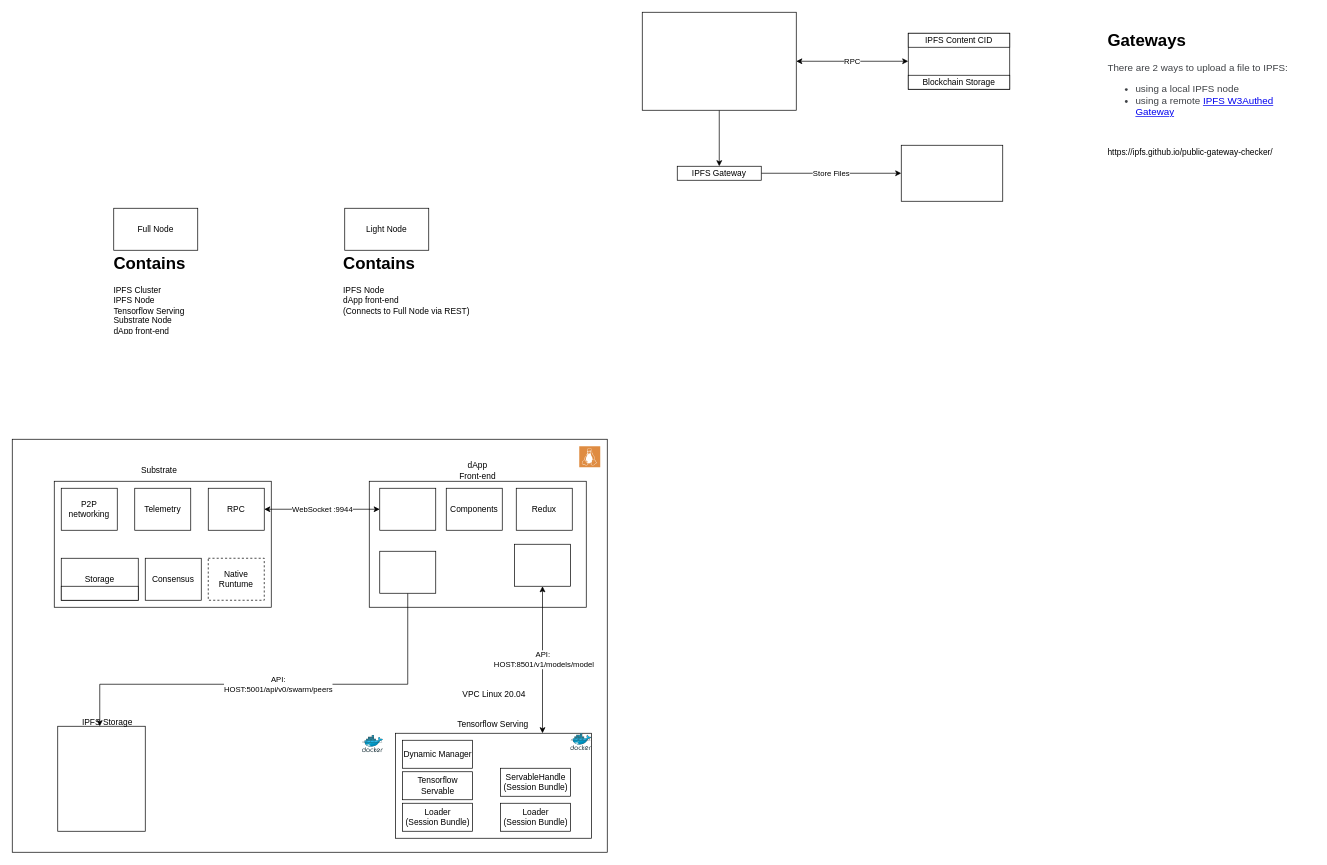
Image size: 1327x865. Some labels were removed from this diagram. The box of each missing label's shape, as (x1, y1, x2, y2) in pixels:
IPFS: (901, 145, 1003, 201)
IPFS lib: (379, 551, 436, 593)
Node: (908, 33, 1010, 89)
Substrate-lib: (379, 488, 436, 530)
Tensorflow-lib: (514, 544, 570, 586)
WASM Runtime: (61, 586, 138, 600)
Web App Client: (642, 12, 796, 110)
